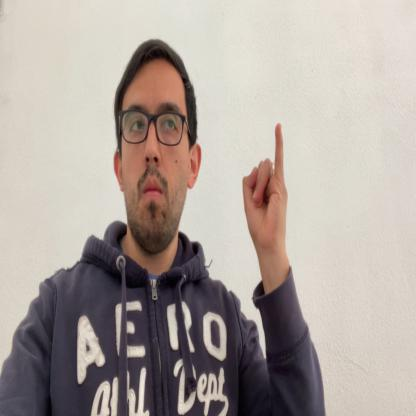I: (243, 122, 288, 264)
